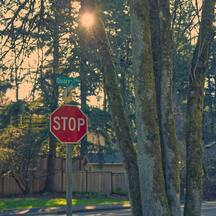Circle: (50, 104, 89, 143)
